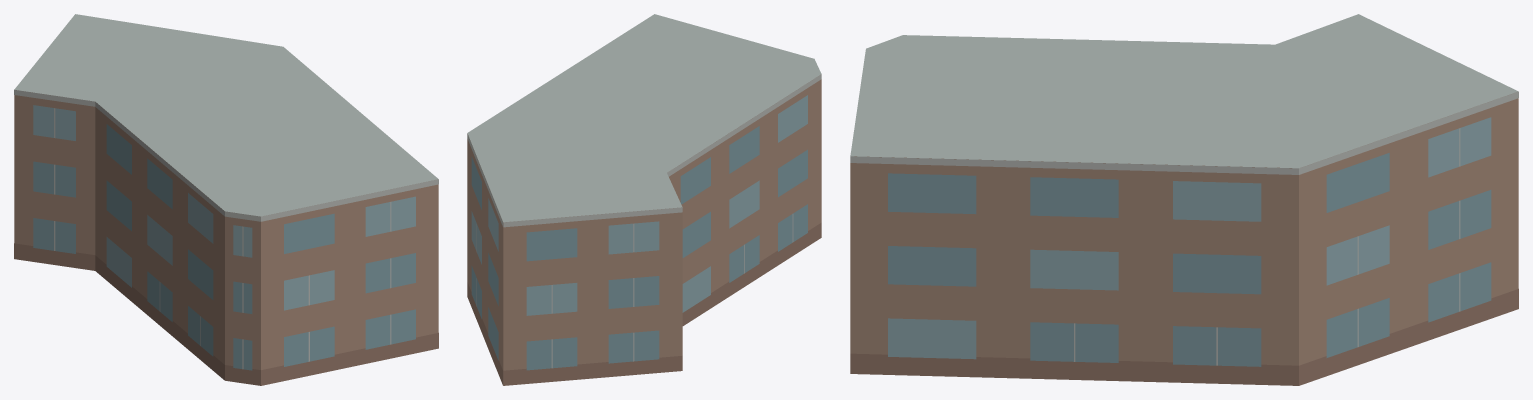
Rendered from survey-upis-32666980.glb.
3 views of the same model, side by side, from view 1: azimuth 30°, elevation 25°; view 2: azimuth 150°, elevation 25°; view 3: azimuth 270°, elevation 25° (orthographic). The views are drawn at different scales.
Parts seen in each view (by area): view 1: survey-upis-32666980.tmp; view 2: survey-upis-32666980.tmp; view 3: survey-upis-32666980.tmp.
Part boxes in pixels (bbox=[...]): survey-upis-32666980.tmp: bbox=[14, 14, 438, 385]; survey-upis-32666980.tmp: bbox=[467, 14, 821, 385]; survey-upis-32666980.tmp: bbox=[850, 14, 1518, 385].
Bounding box in the file's own units: 12.02 × 7.9 × 22.01.
